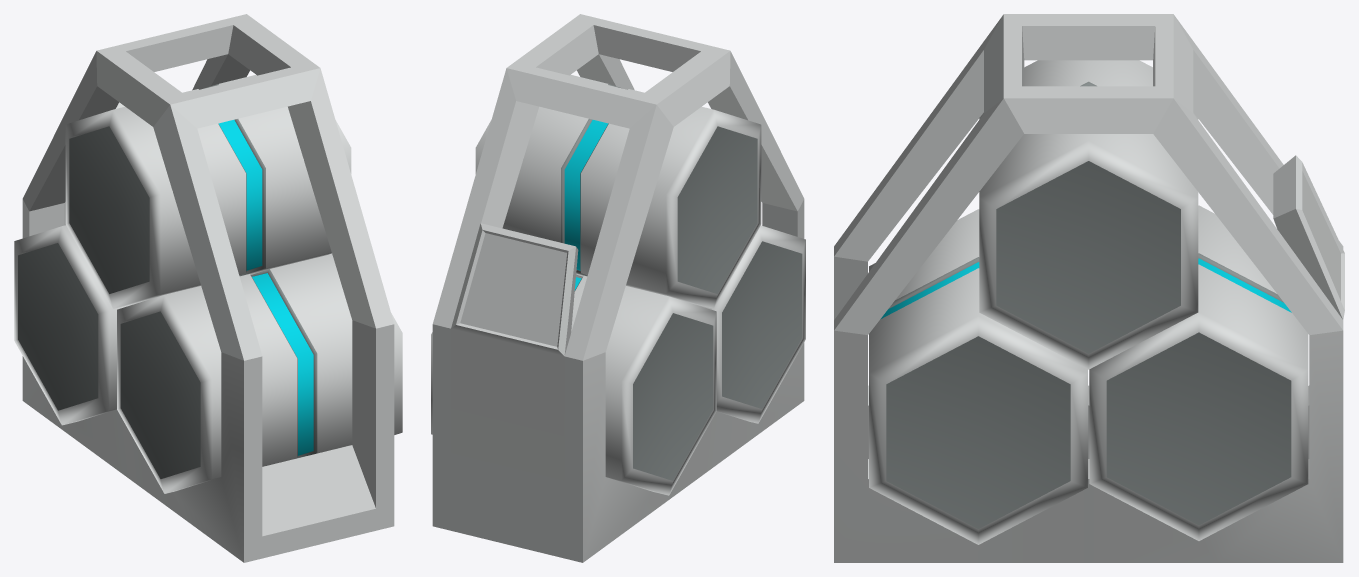
The model's file is BarrelsContained.fbx.
The picture shows the model from 3 angles, left to right: view 1: azimuth 30°, elevation 25°; view 2: azimuth 150°, elevation 25°; view 3: azimuth 270°, elevation 25°; orthographic projection. The views are drawn at different scales.
Visible parts, largest first — view 1: pCube1, pCylinder17, pCylinder15, pCylinder16; view 2: pCube1, pCylinder15, pCylinder16, pCylinder17; view 3: pCube1, pCylinder17, pCylinder16, pCylinder15.
Part boxes in pixels (x1=…): pCube1: x1=22, y1=14, x2=394, y2=562; pCylinder17: x1=117, y1=254, x2=402, y2=493; pCylinder15: x1=65, y1=75, x2=351, y2=308; pCylinder16: x1=14, y1=225, x2=137, y2=425; pCube1: x1=432, y1=14, x2=804, y2=562; pCylinder15: x1=475, y1=75, x2=761, y2=308; pCylinder16: x1=431, y1=274, x2=716, y2=495; pCylinder17: x1=696, y1=225, x2=805, y2=423; pCube1: x1=834, y1=14, x2=1344, y2=562; pCylinder17: x1=869, y1=209, x2=1087, y2=544; pCylinder16: x1=1089, y1=205, x2=1308, y2=540; pCylinder15: x1=979, y1=60, x2=1198, y2=369.
Size of the model in its own units: 0.4901 by 0.9237 by 0.9203.
